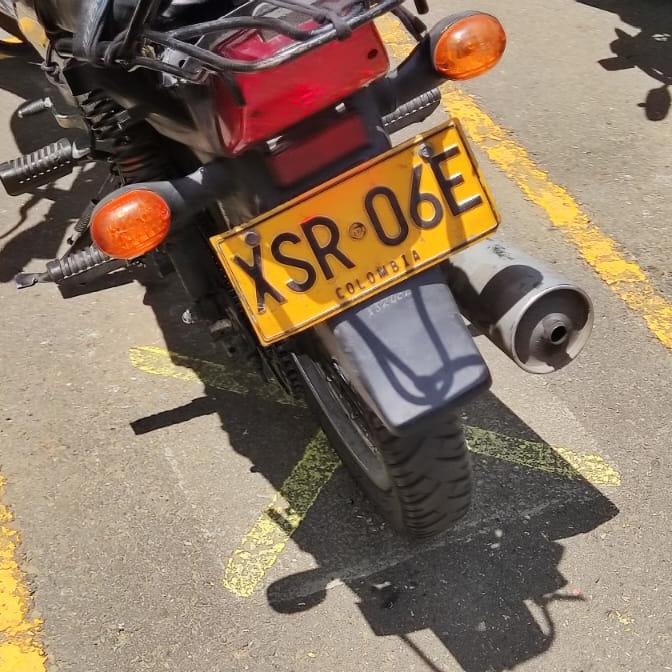plates: (213, 122, 498, 346)
